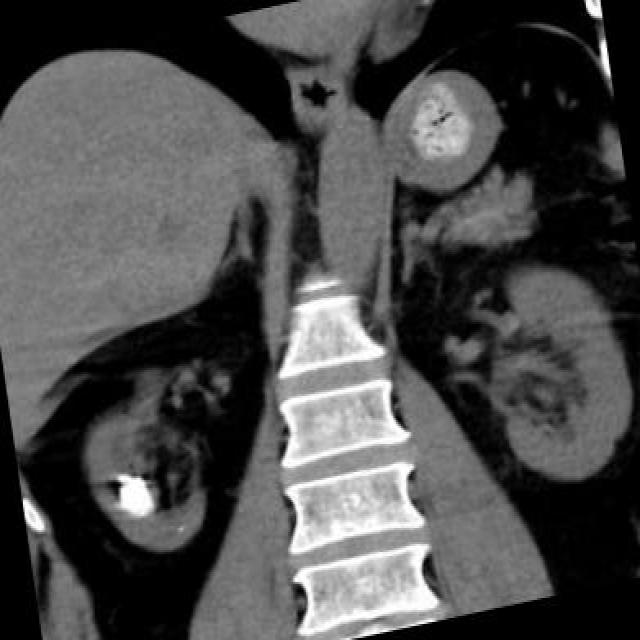Tas_Var: (110, 463, 158, 517), (116, 470, 133, 484), (172, 522, 188, 536), (134, 508, 148, 520)
